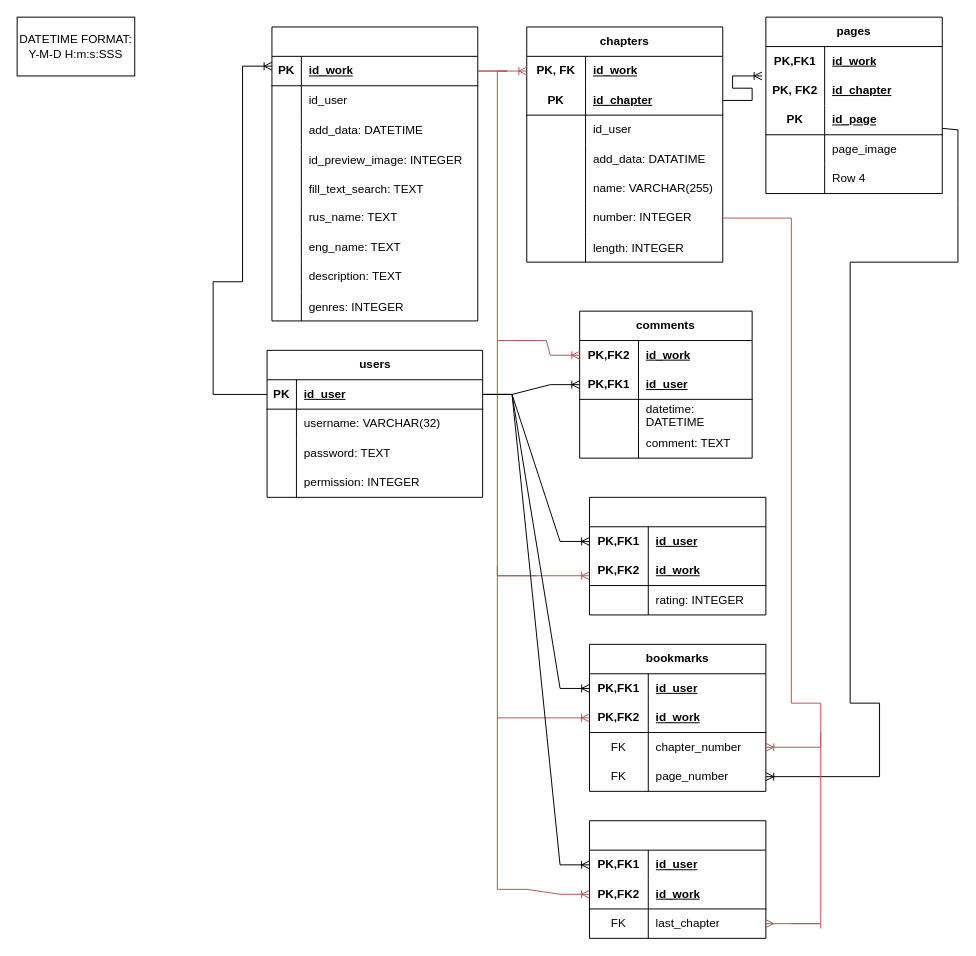
Image size: 976x956. Some labels were removed from this diagram. Here are the shapes that lost their labels. From the top down, the box of each, then its label:
(271, 26, 478, 321): works
(588, 496, 766, 615): work_ratings
(588, 820, 766, 938): likes
